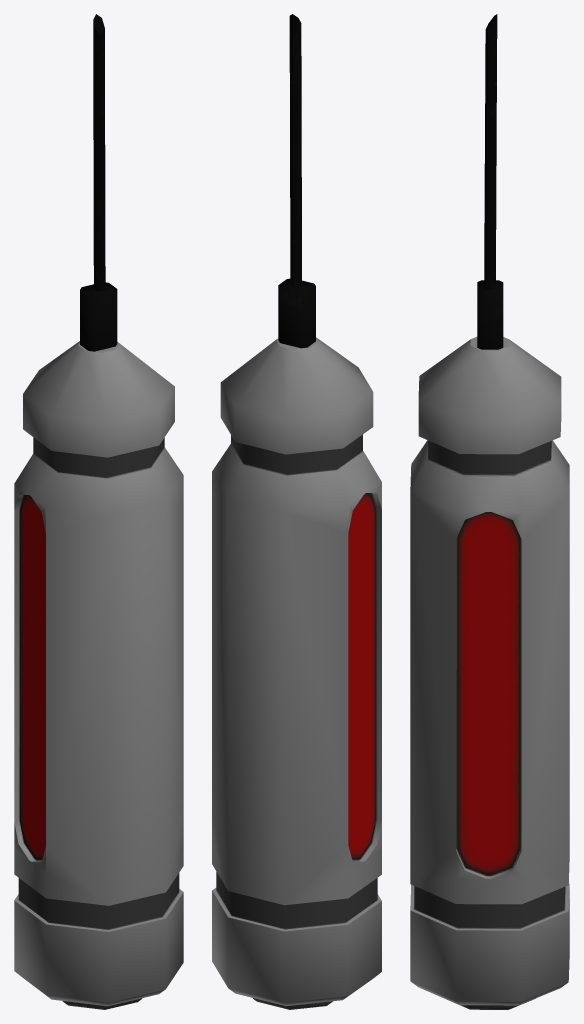
Rendered from adrenaline.obj.
The picture shows the model from 3 angles, left to right: view 1: azimuth 30°, elevation 25°; view 2: azimuth 150°, elevation 25°; view 3: azimuth 270°, elevation 25°; orthographic projection.
Parts seen in each view (by area): view 1: part_0; view 2: part_0; view 3: part_0.
Part boxes in pixels (x1,y1,x2,y2): part_0: (14,14,183,1009); part_0: (212,14,381,1009); part_0: (410,14,569,1009).
Size of the model in its own units: 0.1478 by 1 by 0.1478.
